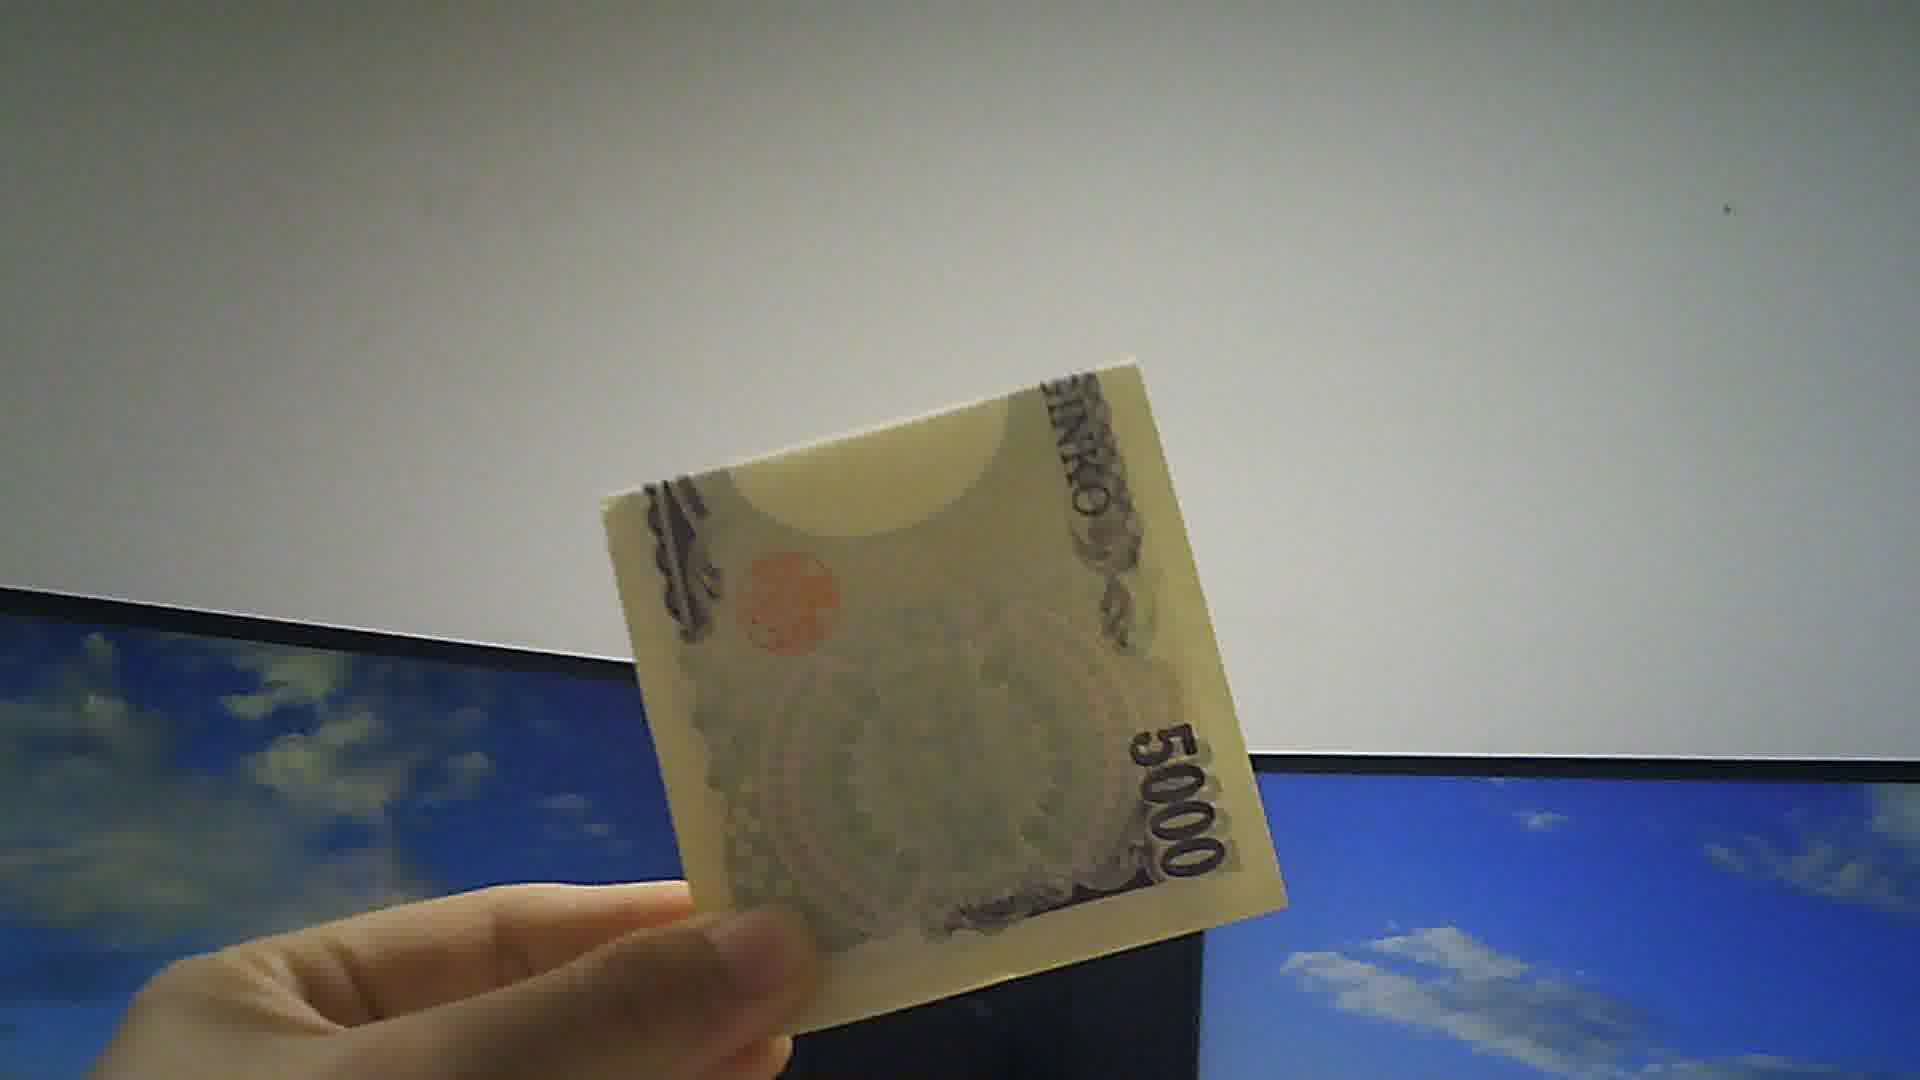5,000 Yen: (582, 352, 1294, 1000)
